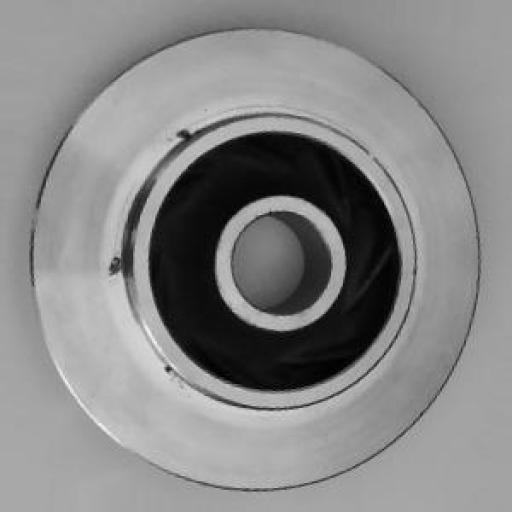defect: (97, 100, 206, 422)
